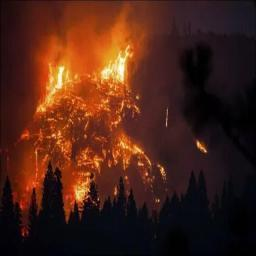Heavy smoke: (3, 3, 138, 51)
Large fire: (10, 39, 145, 214)
Small fire: (191, 137, 212, 159)
